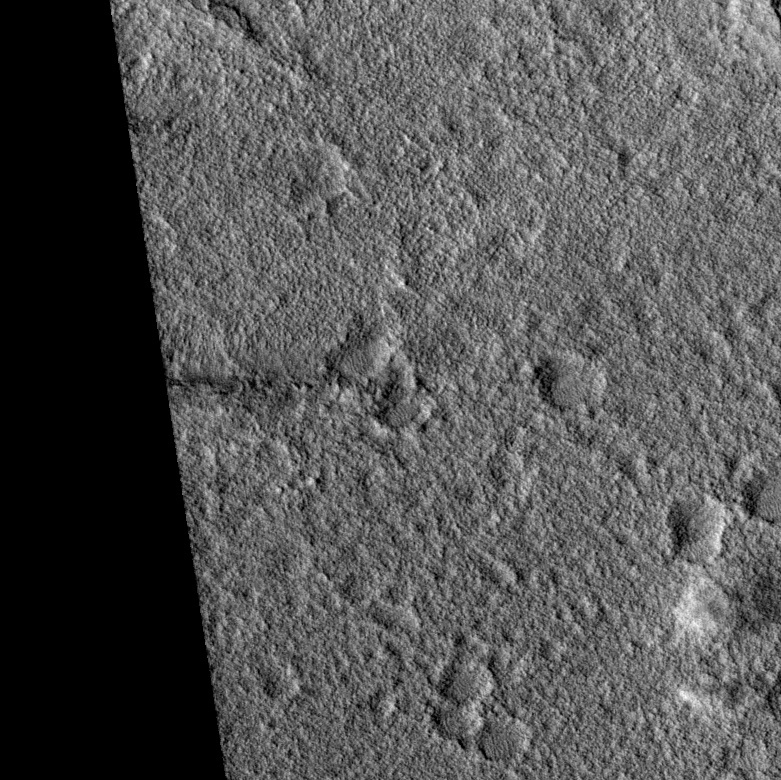dust_devil: (670, 569, 781, 647), (676, 669, 770, 713)
